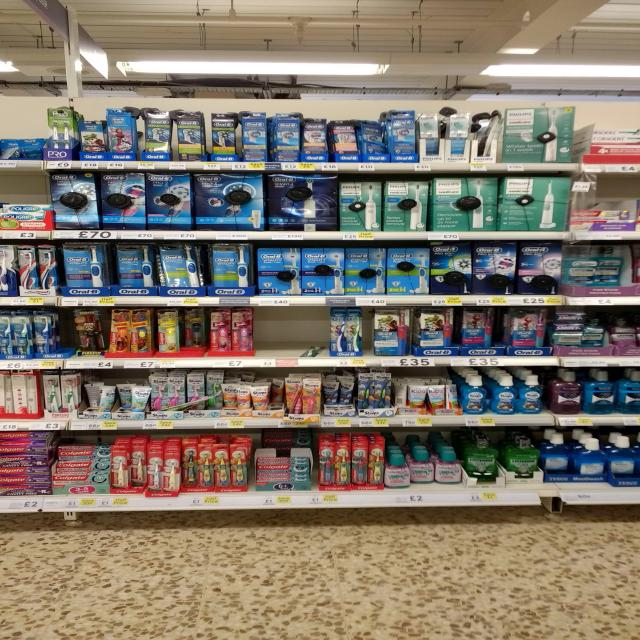empty_space: (253, 311, 327, 354), (5, 174, 53, 206)
